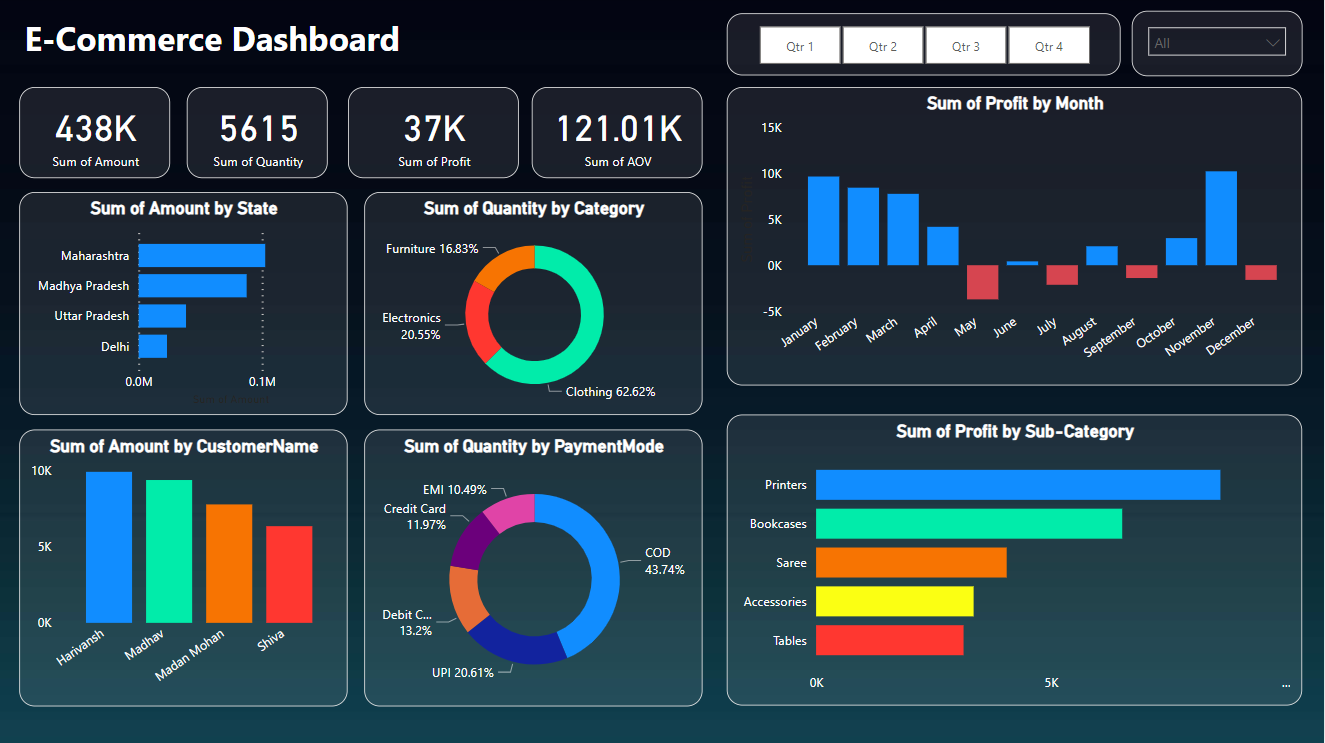

The page's visual inventory and layout, read from the dashboard file:
{"tool":"powerbi","page":{"name":"Page 1","canvas":[1280,720],"ordinal":0},"visuals":[{"type":"columnChart","fields":{"Category":["Orders.Order Date.Variation.Date Hierarchy.Month"],"Y":["Details.Profit"]},"box":[703.3,86.4,555.3,287.9],"z":0},{"type":"barChart","fields":{"Category":["Details.Sub-Category"],"Y":["Details.Profit"]},"box":[703.3,403.1,555.3,281.1],"z":1000},{"type":"donutChart","fields":{"Category":["Details.Category"],"Y":["Details.Quantity"]},"box":[353.7,187.8,326.3,215.3],"z":2000},{"type":"donutChart","fields":{"Y":["Details.Quantity"],"Category":["Details.PaymentMode"]},"box":[353.7,416.8,326.3,267.4],"z":3000},{"type":"card","fields":{"Values":["Details.Amount"]},"box":[20.6,86.4,145.3,87.7],"z":4000},{"type":"card","fields":{"Values":["Details.Quantity"]},"box":[182.3,86.4,135.7,87.7],"z":5000},{"type":"card","fields":{"Values":["Details.Profit"]},"box":[337.3,86.4,164.5,87.7],"z":6000},{"type":"card","fields":{"Values":["Details.AOV"]},"box":[515.5,86.4,164.5,87.7],"z":7000},{"type":"textbox","box":[20.6,13.7,659.5,63.1],"z":8000},{"type":"barChart","fields":{"Category":["Orders.State"],"Y":["Details.Amount"]},"box":[20.6,187.8,316.7,215.3],"z":9000},{"type":"columnChart","fields":{"Category":["Orders.CustomerName"],"Y":["Details.Amount"]},"box":[20.6,416.8,316.7,267.4],"z":10000},{"type":"slicer","fields":{"Values":["Orders.Order Date.Variation.Date Hierarchy.Quarter"]},"box":[703.3,15.1,379.8,60.3],"z":10001},{"type":"slicer","fields":{"Values":["Orders.State"]},"box":[1094.1,13.7,164.5,63.1],"z":10002}]}

Visuals, with their boxes in screenshot pixels (x1, y1, x2, y2), scaled from the page's 1280x720 canvas onto the 1325x743 screenshot:
columnChart - Orders.Order Date.Variation.Date Hierarchy.Month x Details.Profit: bbox(728, 89, 1303, 386)
barChart - Details.Sub-Category x Details.Profit: bbox(728, 416, 1303, 706)
donutChart - Details.Category x Details.Quantity: bbox(366, 194, 704, 416)
donutChart - Details.Quantity x Details.PaymentMode: bbox(366, 430, 704, 706)
card - Details.Amount: bbox(21, 89, 172, 180)
card - Details.Quantity: bbox(189, 89, 329, 180)
card - Details.Profit: bbox(349, 89, 519, 180)
card - Details.AOV: bbox(534, 89, 704, 180)
textbox: bbox(21, 14, 704, 79)
barChart - Orders.State x Details.Amount: bbox(21, 194, 349, 416)
columnChart - Orders.CustomerName x Details.Amount: bbox(21, 430, 349, 706)
slicer - Orders.Order Date.Variation.Date Hierarchy.Quarter: bbox(728, 16, 1121, 78)
slicer - Orders.State: bbox(1133, 14, 1303, 79)
